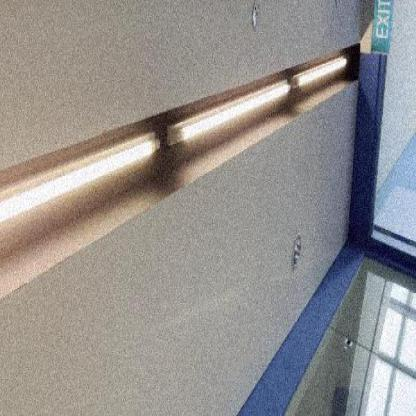light_on: (0, 105, 166, 251), (167, 50, 295, 167), (297, 40, 347, 98)
